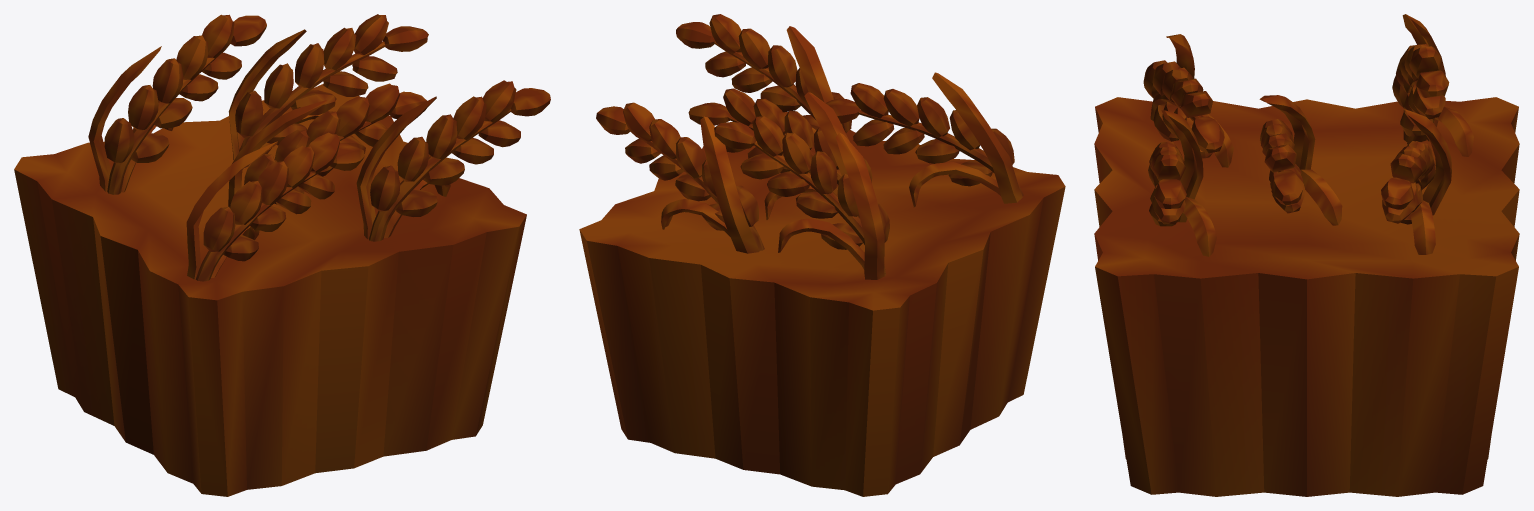
Rendered from Farm_Crop_Rice_01_Dead.fbx.
3 renders of one model, left to right at view 1: azimuth 30°, elevation 25°; view 2: azimuth 150°, elevation 25°; view 3: azimuth 270°, elevation 25°, orthographic. The views are drawn at different scales.
Parts seen in each view (by area): view 1: Farm_Crop_Rice_01_Dead; view 2: Farm_Crop_Rice_01_Dead; view 3: Farm_Crop_Rice_01_Dead.
Part boxes in pixels (x1,y1,x2,y2): Farm_Crop_Rice_01_Dead: [14, 14, 550, 496]; Farm_Crop_Rice_01_Dead: [579, 14, 1065, 496]; Farm_Crop_Rice_01_Dead: [1094, 14, 1519, 496].
Bounding box in the file's own units: 228 × 197 × 200.
